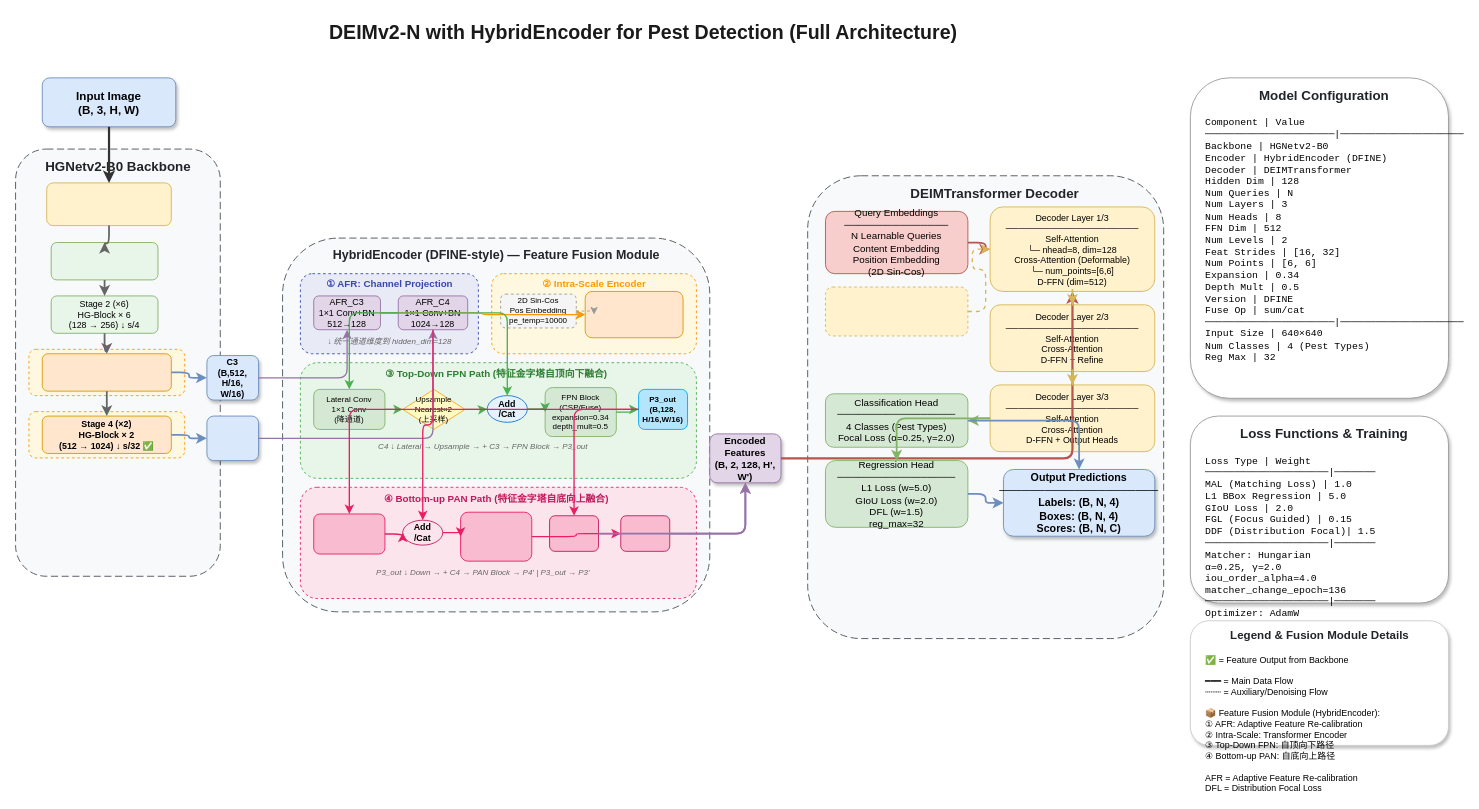
This 1479x809 diagram has some shape labels left out. The shapes that lost their labels are listed below. From the top down, each one's centre as x and y in pixels, then its label:
point (108, 204): Stem Block Conv 3×3 + BN + SiLU (3 → 48 → 96)
point (104, 261): Stage 1 (×6) HG-Block × 6 (96 → 128)
point (633, 314): Transformer Encoder × N nhead=8 dim_ffn=512 (仅C3)
point (896, 311): Denoising Queries ─────────────── 100 queries label_noise=0.5 box_noise=1.0
point (106, 372): Stage 3 (×5) HG-Block × 5 (256 → 512) ↓ s/16 ✅
point (233, 439): C4 (B,1024, H/32, W/32)
point (349, 533): Down Conv Stride=2 (下采样)
point (496, 536): PAN Block (CSP/Fuse) expansion=0.34 depth_mult=0.5
point (574, 533): P3'_xa;(B,128)
point (645, 533): P4' (B,128)
